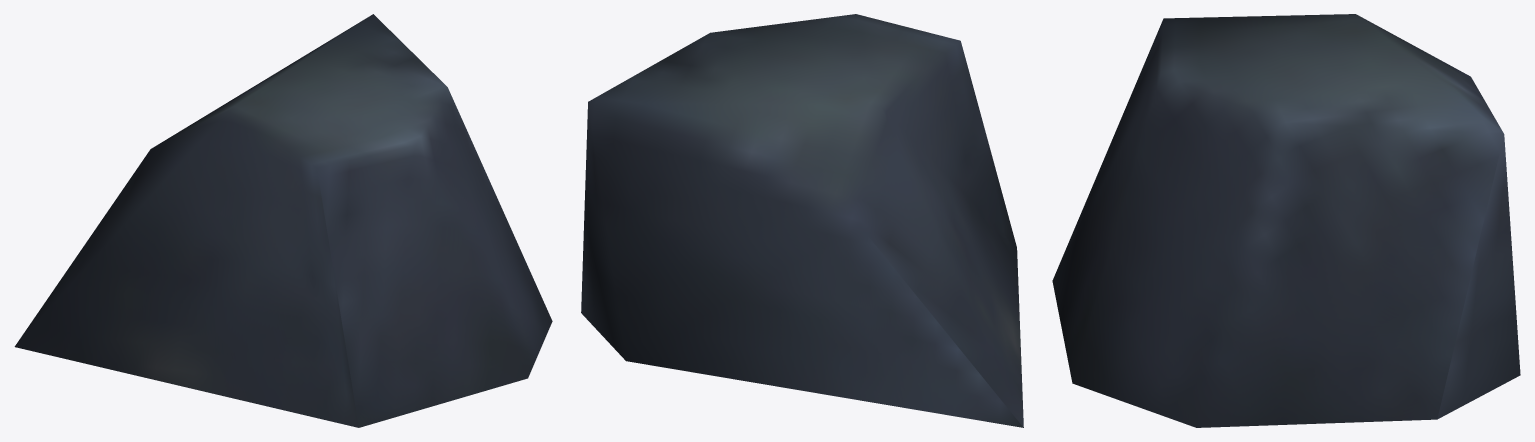
File: Area_15_40.fbx
3 renders of one model, left to right at view 1: azimuth 30°, elevation 25°; view 2: azimuth 150°, elevation 25°; view 3: azimuth 270°, elevation 25°, orthographic. The views are drawn at different scales.
Visible parts, largest first — view 1: Area_15_40; view 2: Area_15_40; view 3: Area_15_40.
Boxes of the visible parts, x1,y1,x2,y2 form: Area_15_40: (14,14,552,427); Area_15_40: (581,14,1023,427); Area_15_40: (1052,14,1520,427).
Bounding box in the file's own units: 523 × 260 × 416.
